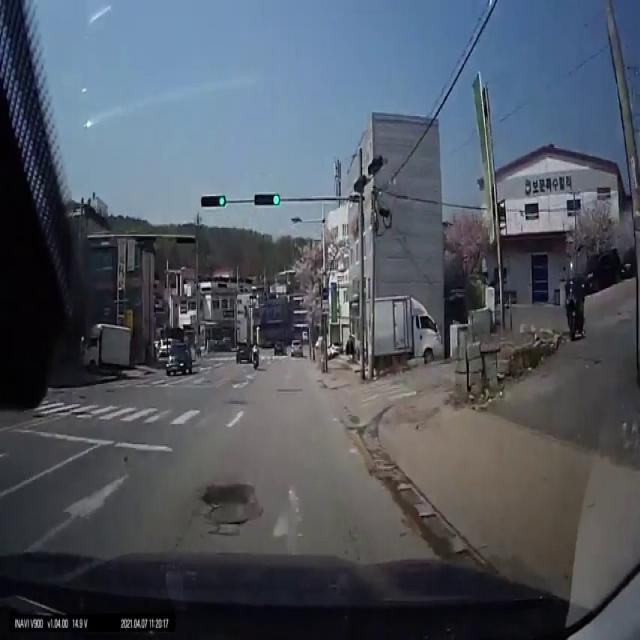Pothole: (203, 479, 256, 513)
